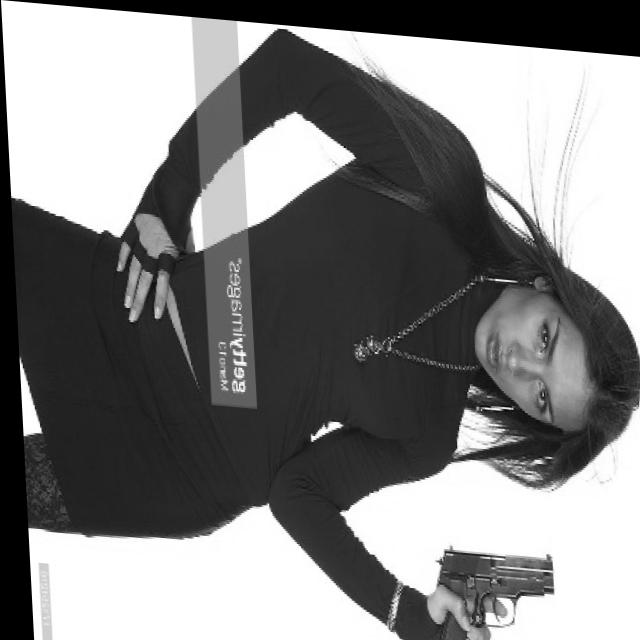handgun: (427, 526, 557, 640)
